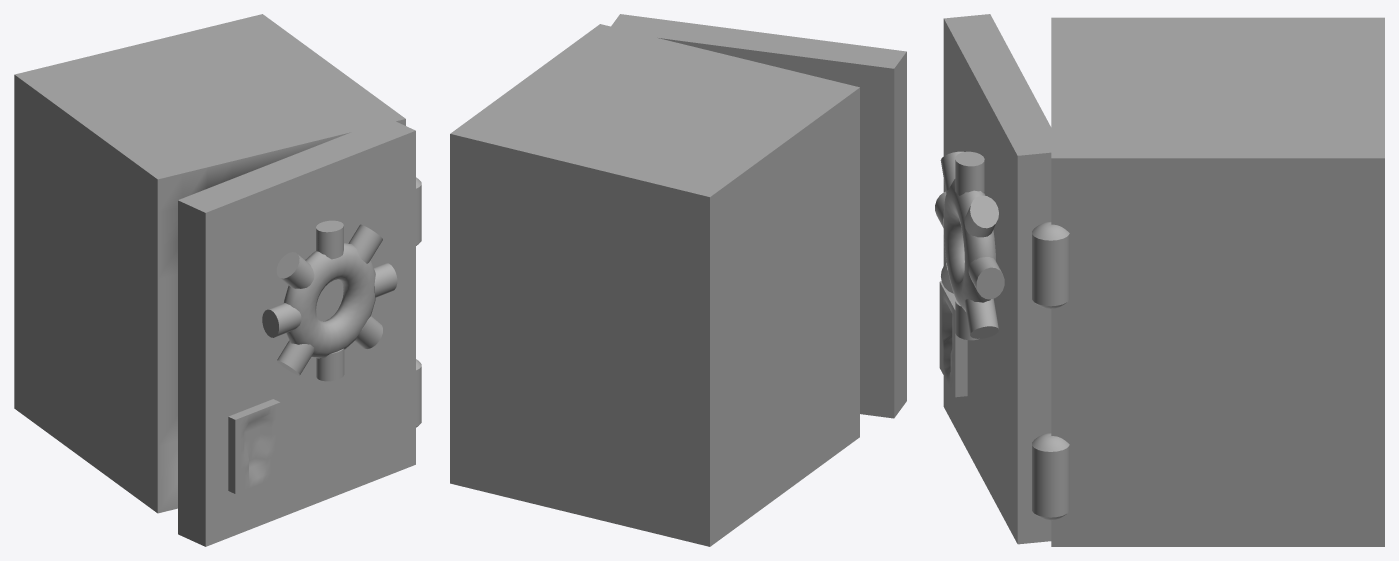
The model's file is Safe.FBX.
3 renders of one model, left to right at view 1: azimuth 30°, elevation 25°; view 2: azimuth 150°, elevation 25°; view 3: azimuth 270°, elevation 25°, orthographic. The views are drawn at different scales.
Visible parts, largest first — view 1: Box001, Box002, Torus002, Box003, Cylinder005, Cylinder011, Cylinder007, Cylinder008, Cylinder009, Cylinder003, Cylinder010, Cylinder004; view 2: Box001, Box002; view 3: Box001, Box002, Torus002, Cylinder001, Cylinder002, Box003, Cylinder007, Cylinder010, Cylinder003, Cylinder004.
Part boxes in pixels (bbox=[...]): Box001: bbox=[14, 14, 405, 513]; Box002: bbox=[178, 118, 415, 546]; Torus002: bbox=[284, 243, 375, 358]; Box003: bbox=[228, 399, 280, 493]; Cylinder005: bbox=[276, 252, 314, 288]; Cylinder011: bbox=[262, 303, 301, 337]; Cylinder007: bbox=[316, 220, 343, 259]; Cylinder008: bbox=[277, 340, 314, 375]; Cylinder009: bbox=[316, 348, 344, 381]; Cylinder003: bbox=[348, 224, 382, 263]; Cylinder010: bbox=[374, 263, 397, 297]; Cylinder004: bbox=[355, 316, 382, 348]; Box001: bbox=[450, 24, 859, 546]; Box002: bbox=[608, 14, 906, 418]; Box001: bbox=[1051, 17, 1384, 546]; Box002: bbox=[943, 14, 1063, 544]; Torus002: bbox=[943, 179, 995, 311]; Cylinder001: bbox=[1032, 433, 1069, 520]; Cylinder002: bbox=[1032, 221, 1069, 308]; Box003: bbox=[939, 281, 967, 397]; Cylinder007: bbox=[955, 151, 984, 195]; Cylinder010: bbox=[968, 257, 1004, 299]; Cylinder003: bbox=[964, 195, 998, 237]; Cylinder004: bbox=[964, 298, 998, 338].
Size of the model in its own units: 75.51 by 90 by 94.42.
13 materials, 13 textured.
